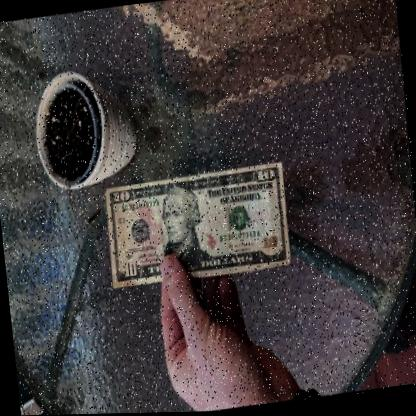ten-front: (104, 161, 294, 288)
